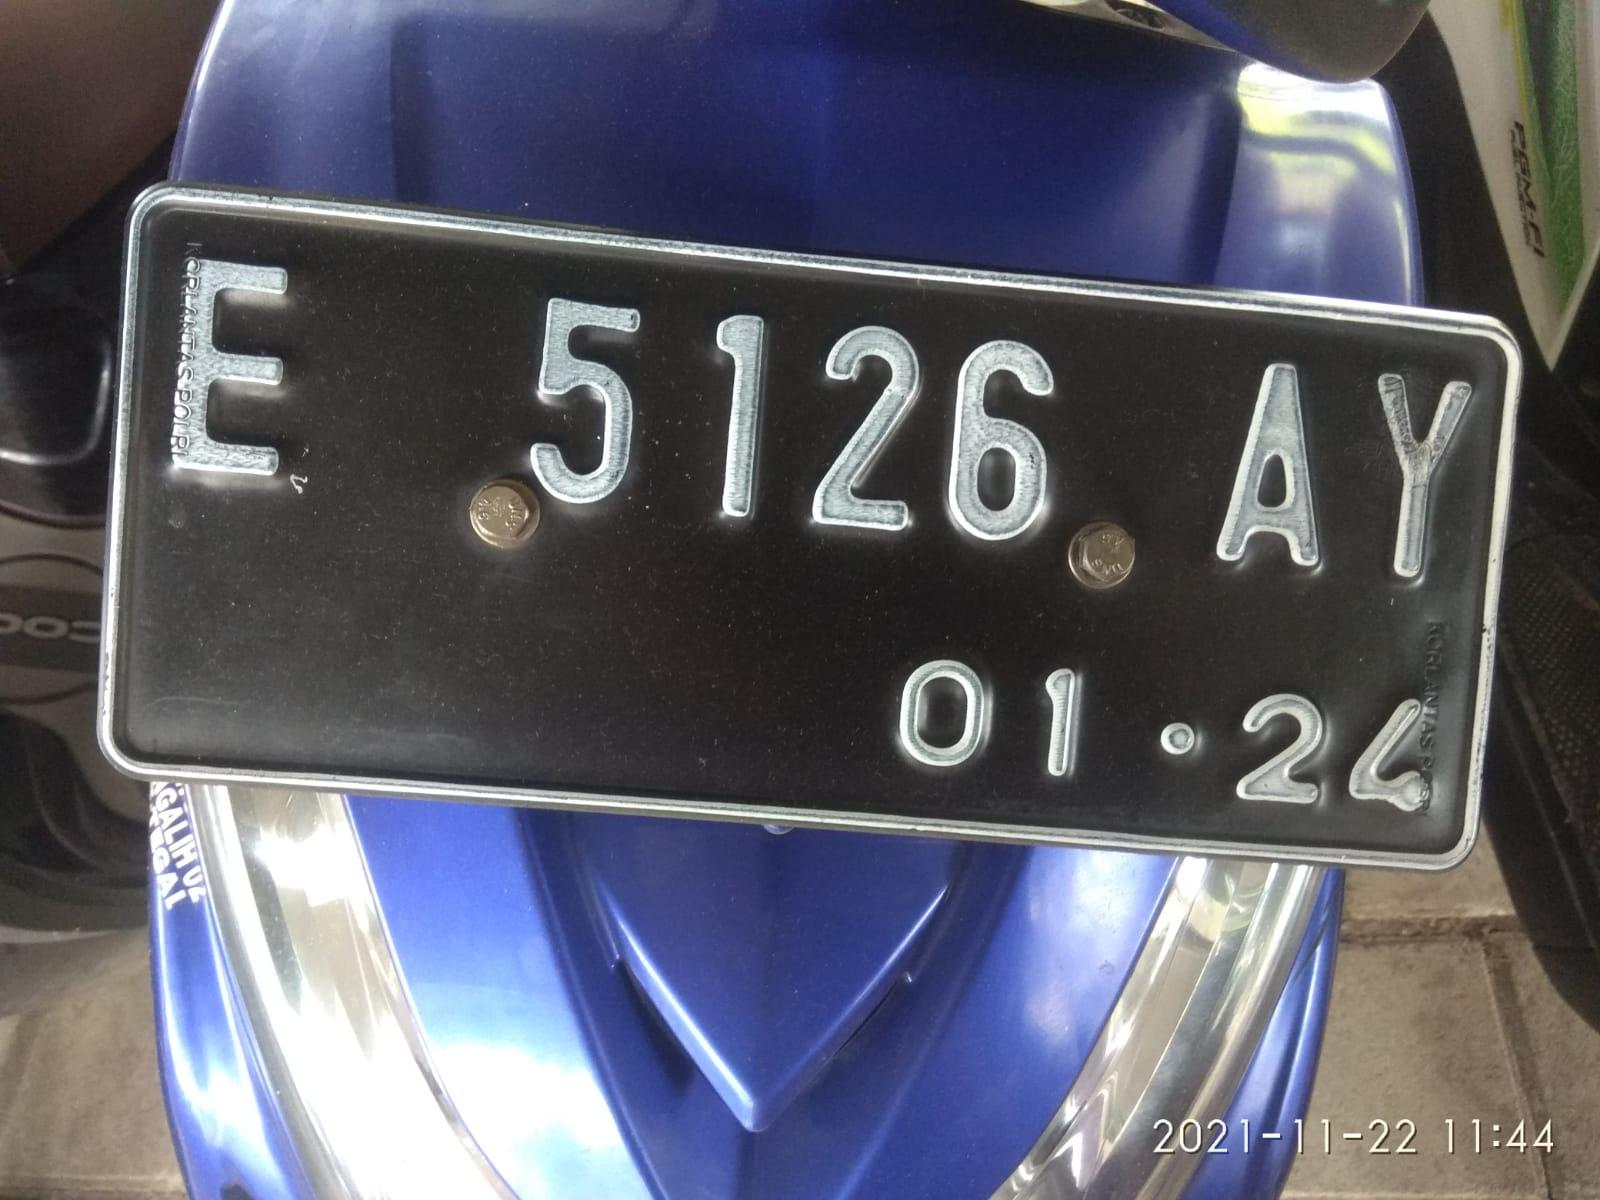plat: (100, 184, 1519, 868)
